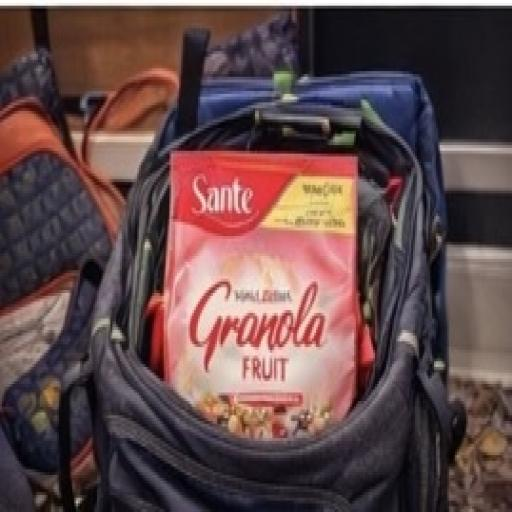granola: (132, 87, 377, 490)
